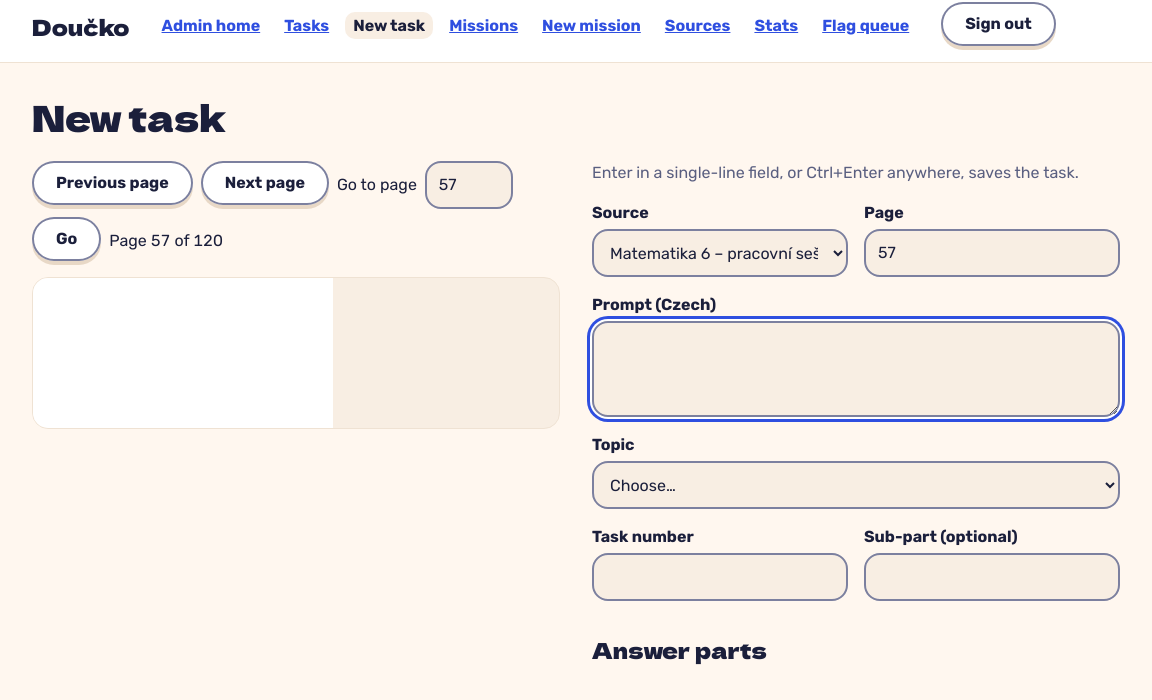
Scenario: new task form (FR-3) › a text task without parts is refused with the server message (Text task without parts)
Expected: the heading "New task" is shown, [32,90,226,142]
Expected: the dropdown labelled "Source" shows "Matematika 6 – pracovní sešit", [592,229,848,277]
Type "Kolik je 7 + 5?" into the text box labelled "Prompt (Czech)". click: (856, 369)
box: [592,321,1120,417]
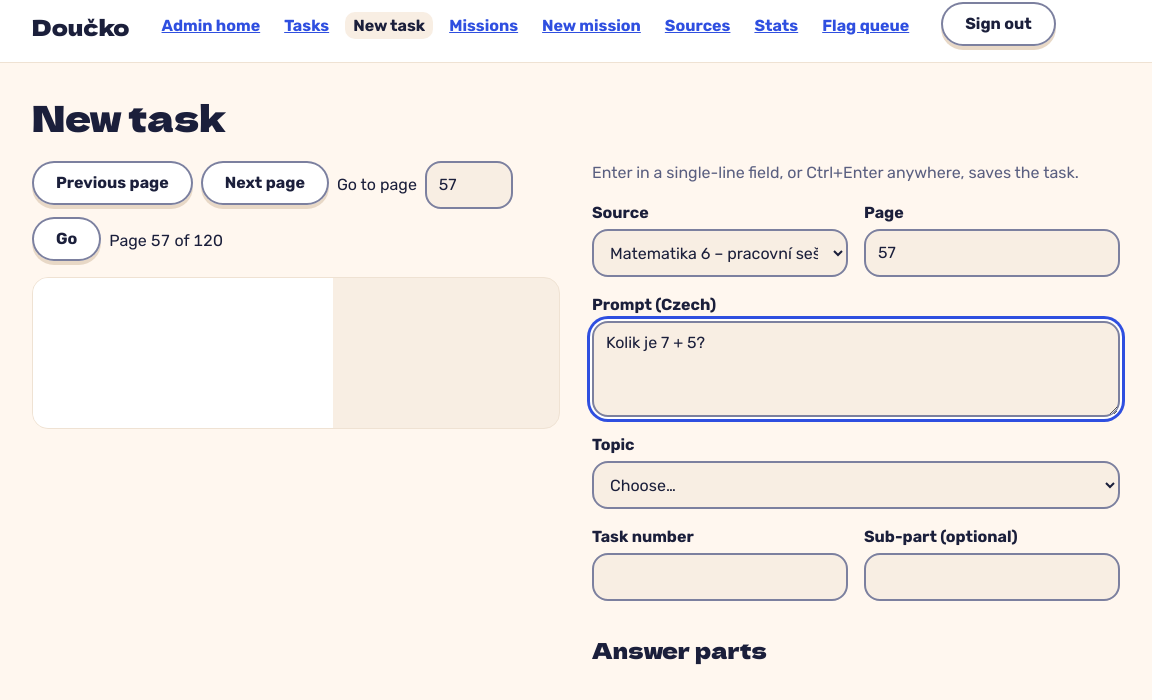
Select "Desetinná čísla" in the dropdown labelled "Topic". click: (856, 485)
box: [592,461,1120,509]
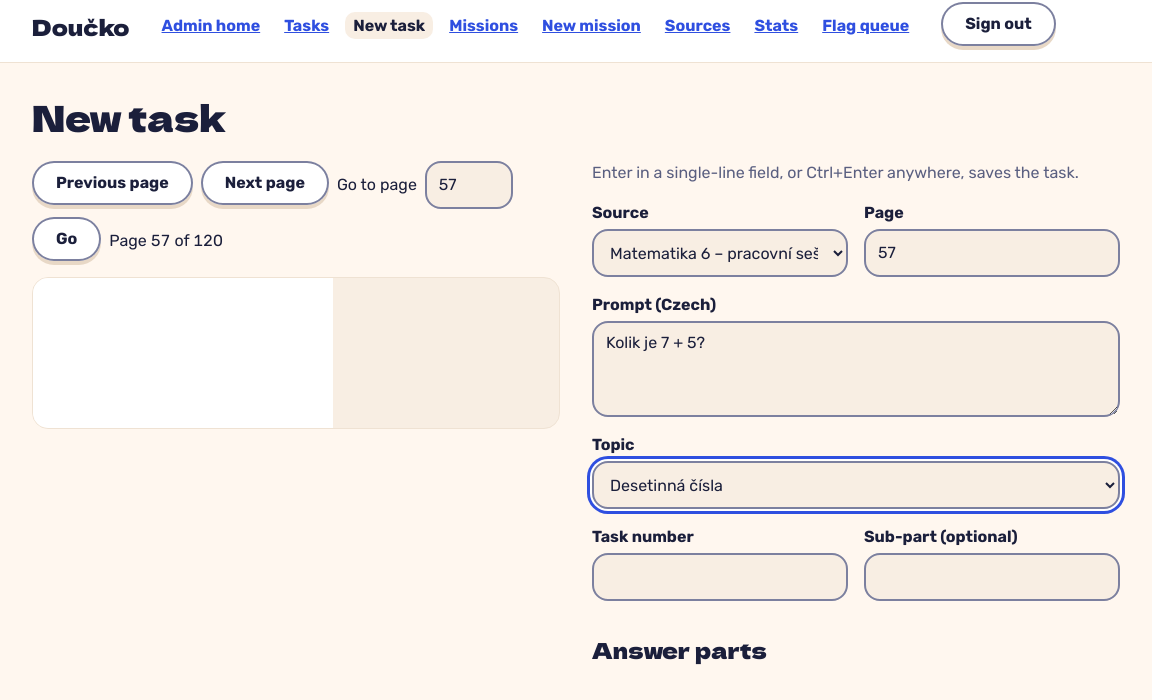
Type "4" into the field labelled "Task number". click: (720, 577)
box: [592,553,848,601]
(page scrolled)
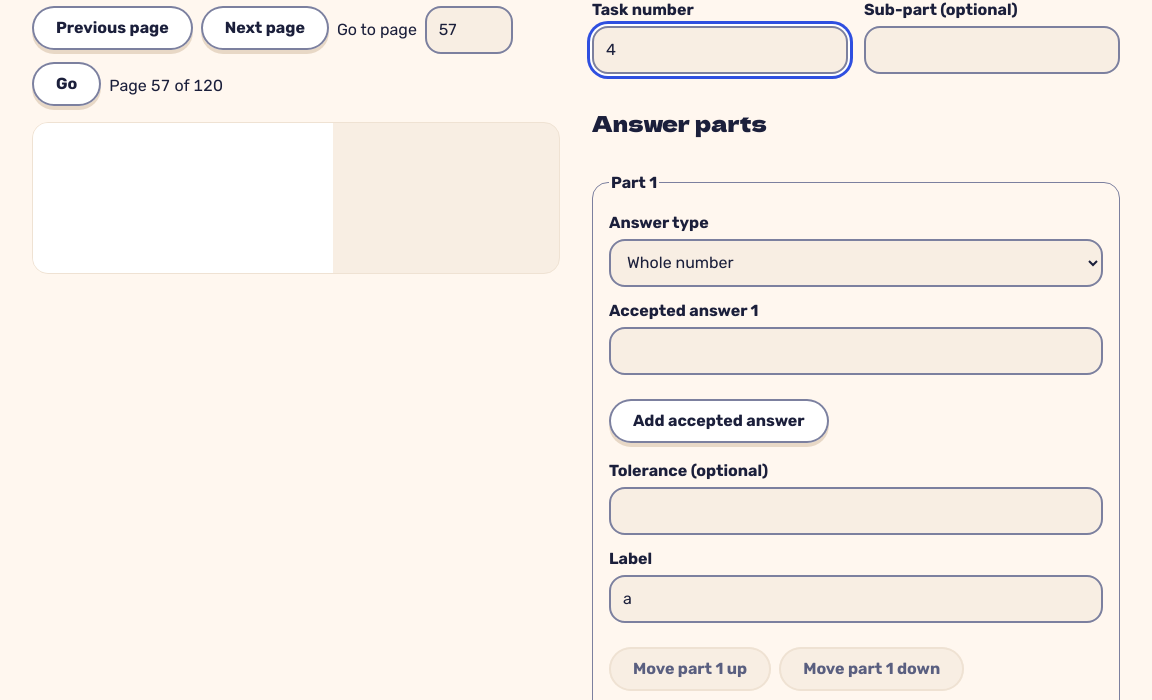
Type "12" into the field labelled "Accepted answer 1". click: (856, 350)
box: [609,326,1103,374]
(page scrolled)
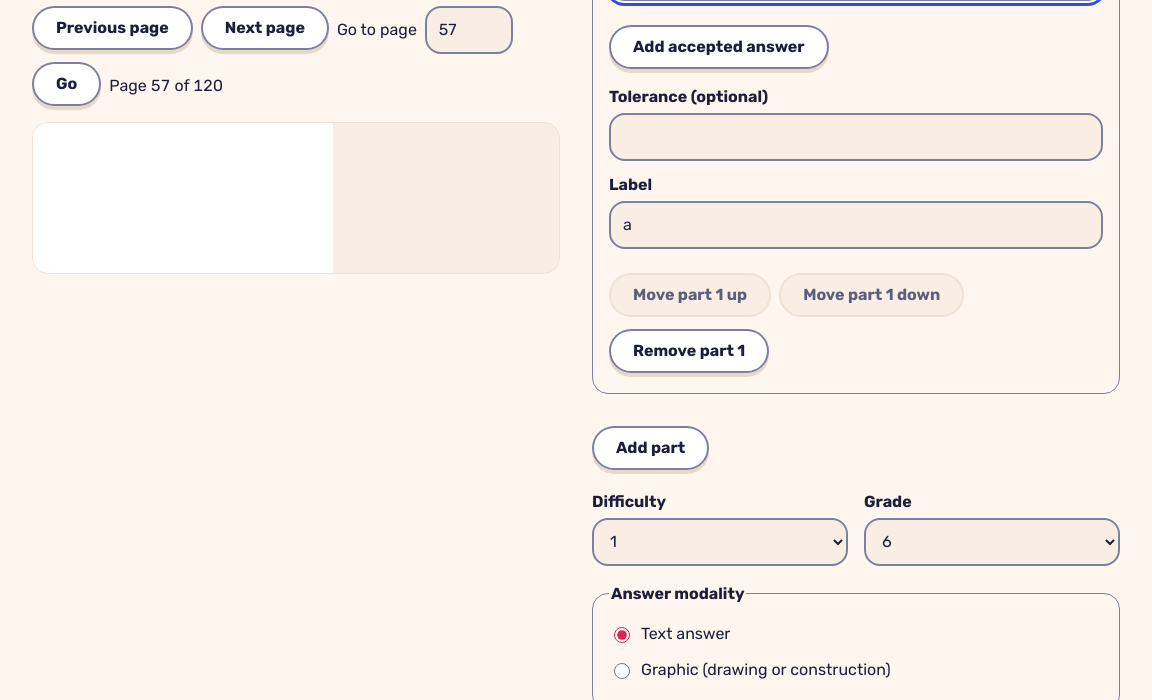
Click the button "Remove part 1". click: (689, 350)
box: [609,328,769,372]
(page scrolled)
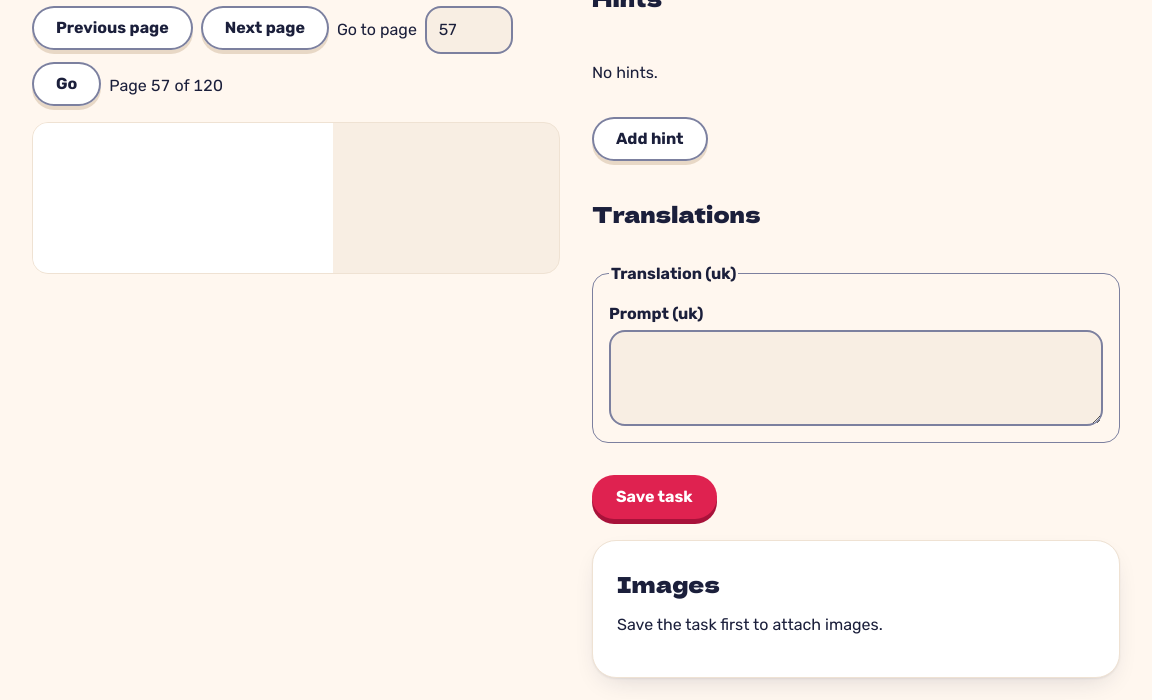
Click the button "Save task". click: (654, 496)
box: [592,474,717,518]
(page scrolled)
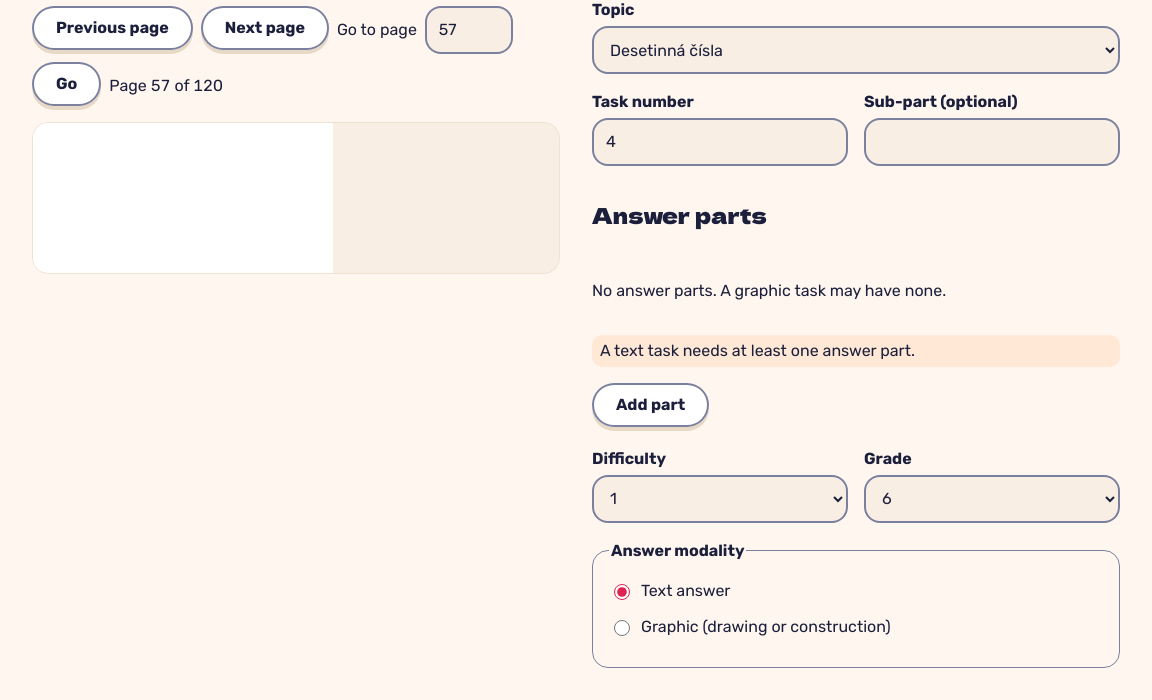
Expected: the text "A text task needs at least one answer part." is shown, [592,334,1120,366]
